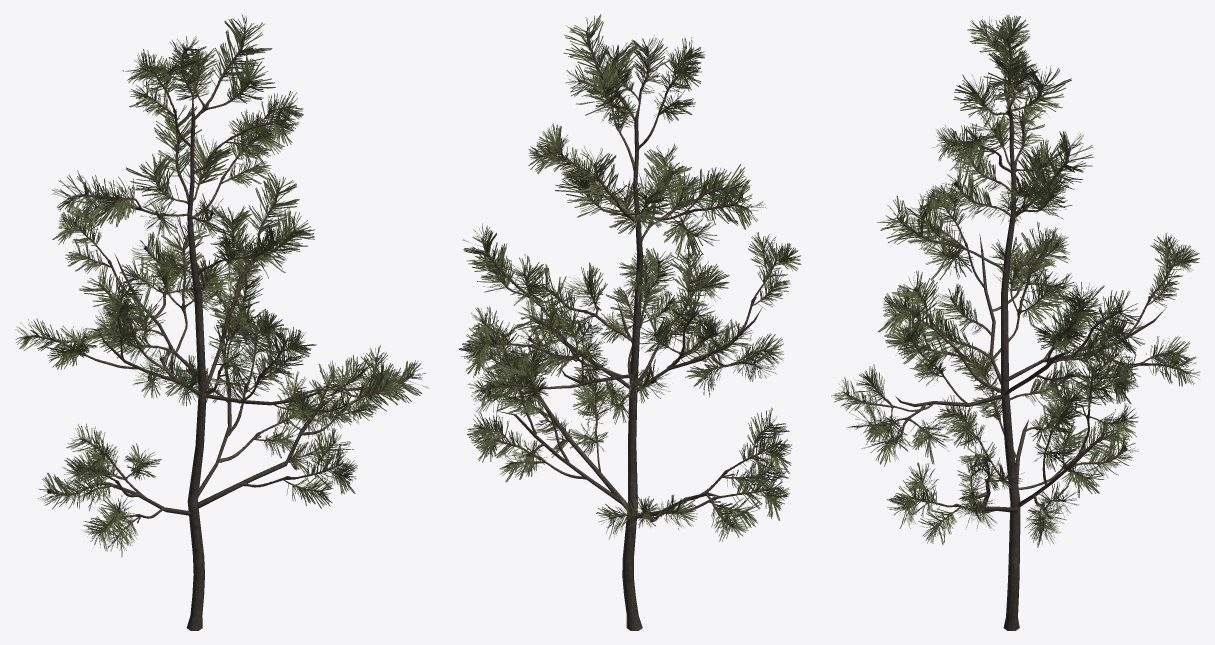
3 views of the same model, side by side, from view 1: azimuth 30°, elevation 25°; view 2: azimuth 150°, elevation 25°; view 3: azimuth 270°, elevation 25° (orthographic).
Visible parts, largest first — view 1: pine_sapling_small_a; view 2: pine_sapling_small_a; view 3: pine_sapling_small_a.
Boxes of the visible parts, x1,y1,x2,y2 form: pine_sapling_small_a: (15, 14, 428, 630); pine_sapling_small_a: (458, 14, 801, 630); pine_sapling_small_a: (831, 14, 1200, 630).
Size of the model in its own units: 0.7877 by 1.3 by 0.7274.
2 materials, 2 textured.
